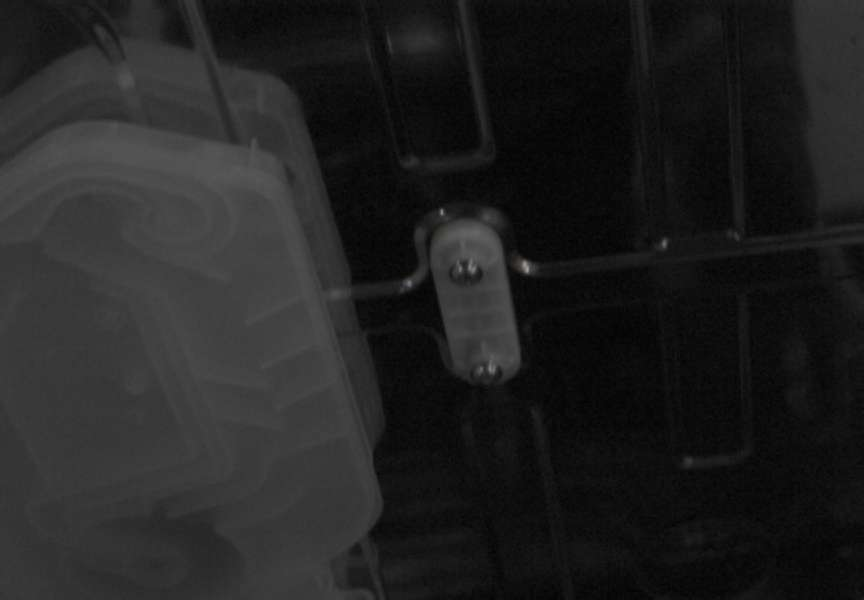screw: (449, 258, 483, 286), (470, 360, 503, 386)
